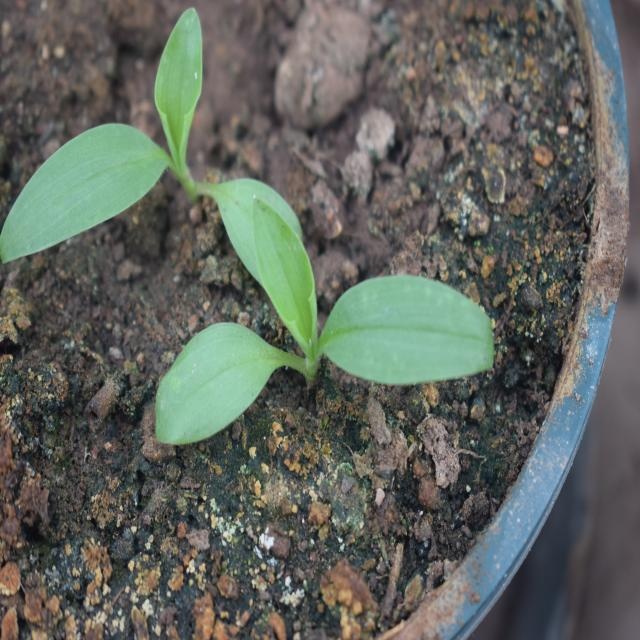Common Dayflower: (149, 203, 487, 478), (0, 24, 268, 250)
